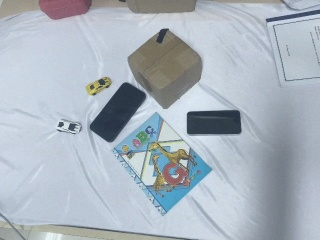book: (110, 112, 217, 217)
box: (127, 27, 203, 109)
phone: (87, 81, 147, 143), (186, 108, 242, 138)
toy_car: (85, 77, 112, 96), (56, 118, 82, 134)
